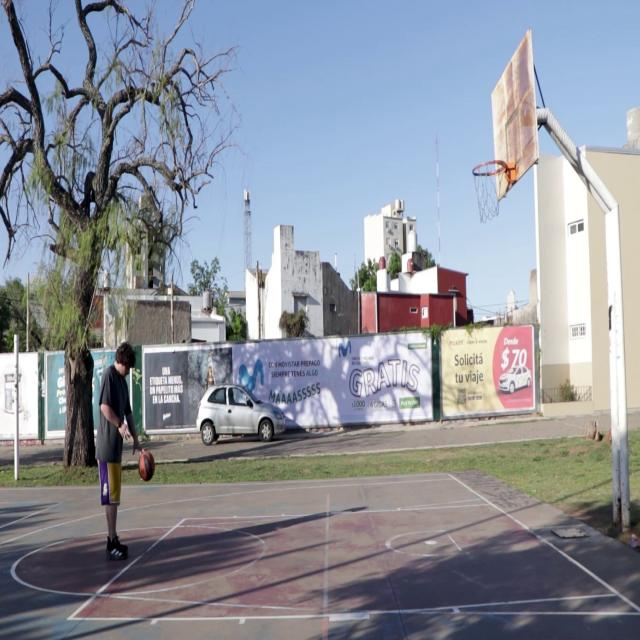ball: (139, 451, 155, 482)
